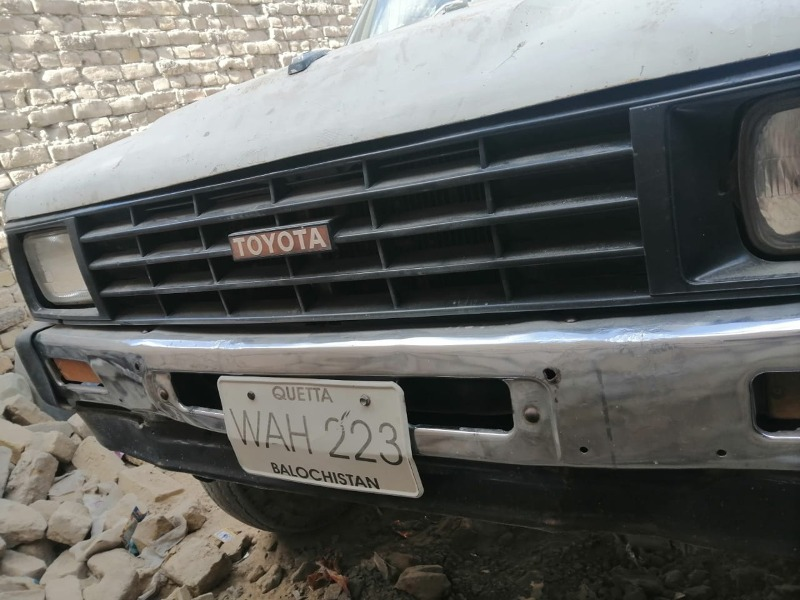License Plate: (212, 371, 426, 505)
